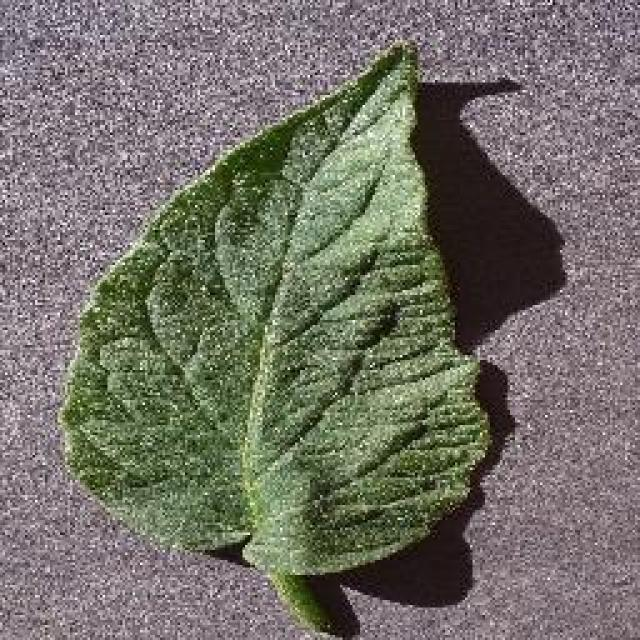Healthy: (38, 30, 508, 640)
